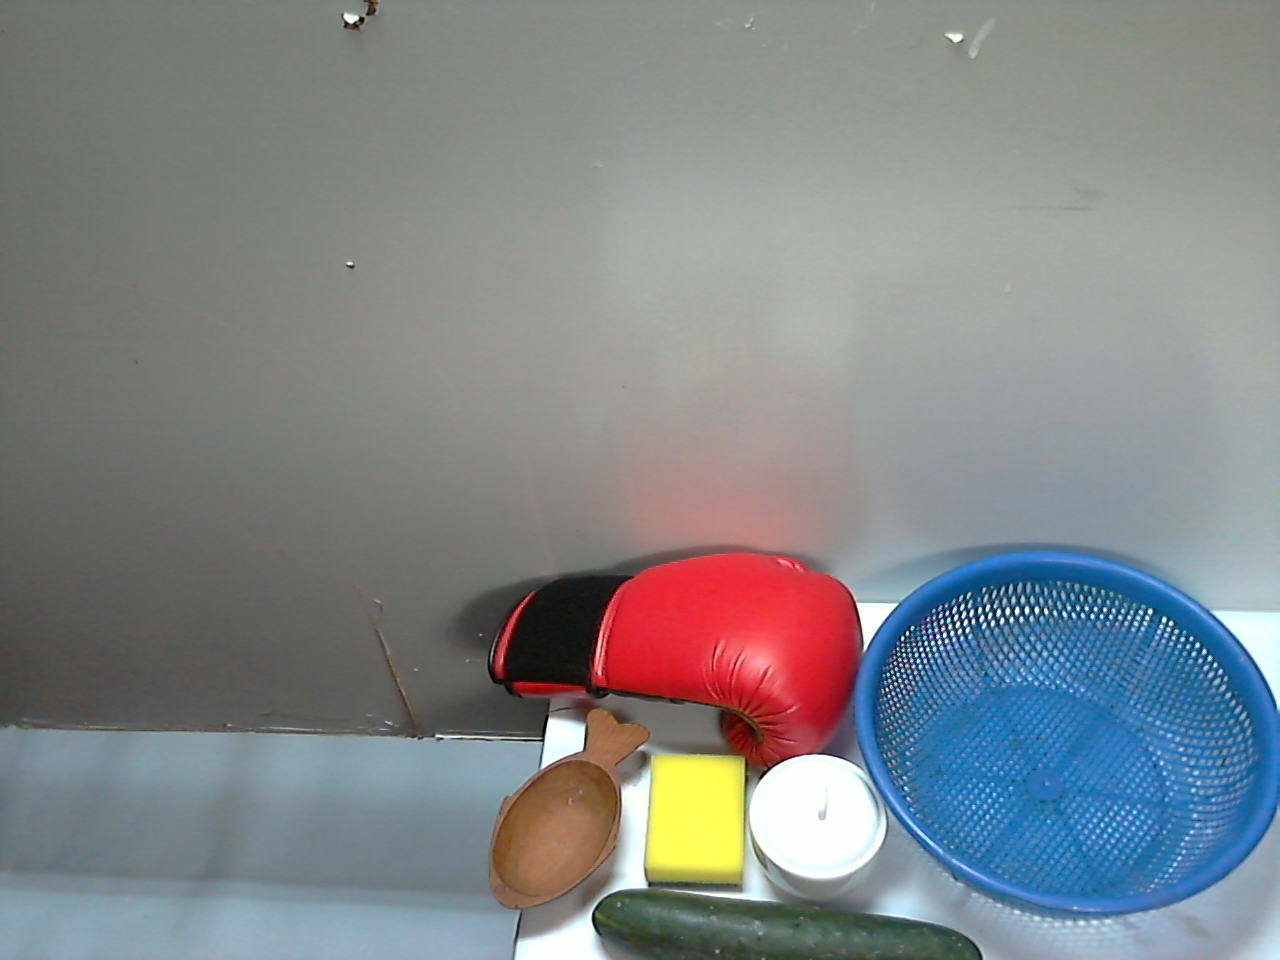azucarero: (754, 639, 901, 797)
cubix: (805, 767, 921, 899)
esponja: (829, 888, 983, 960)
guante: (902, 622, 1198, 960)
jabon: (699, 850, 820, 960)
platoperro: (455, 647, 769, 932)
